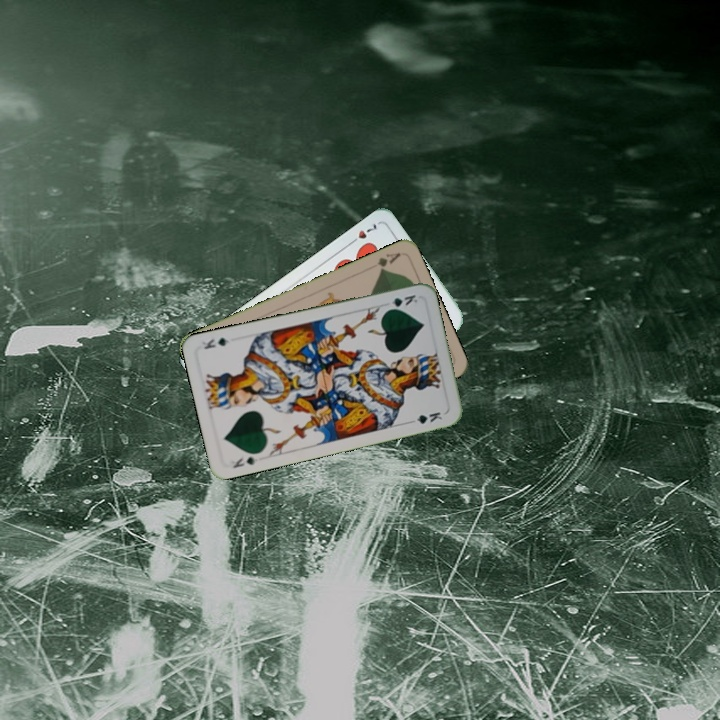GA: (373, 248, 403, 274)
GK: (382, 290, 420, 313), (229, 453, 260, 471)
H7: (345, 219, 379, 247)
